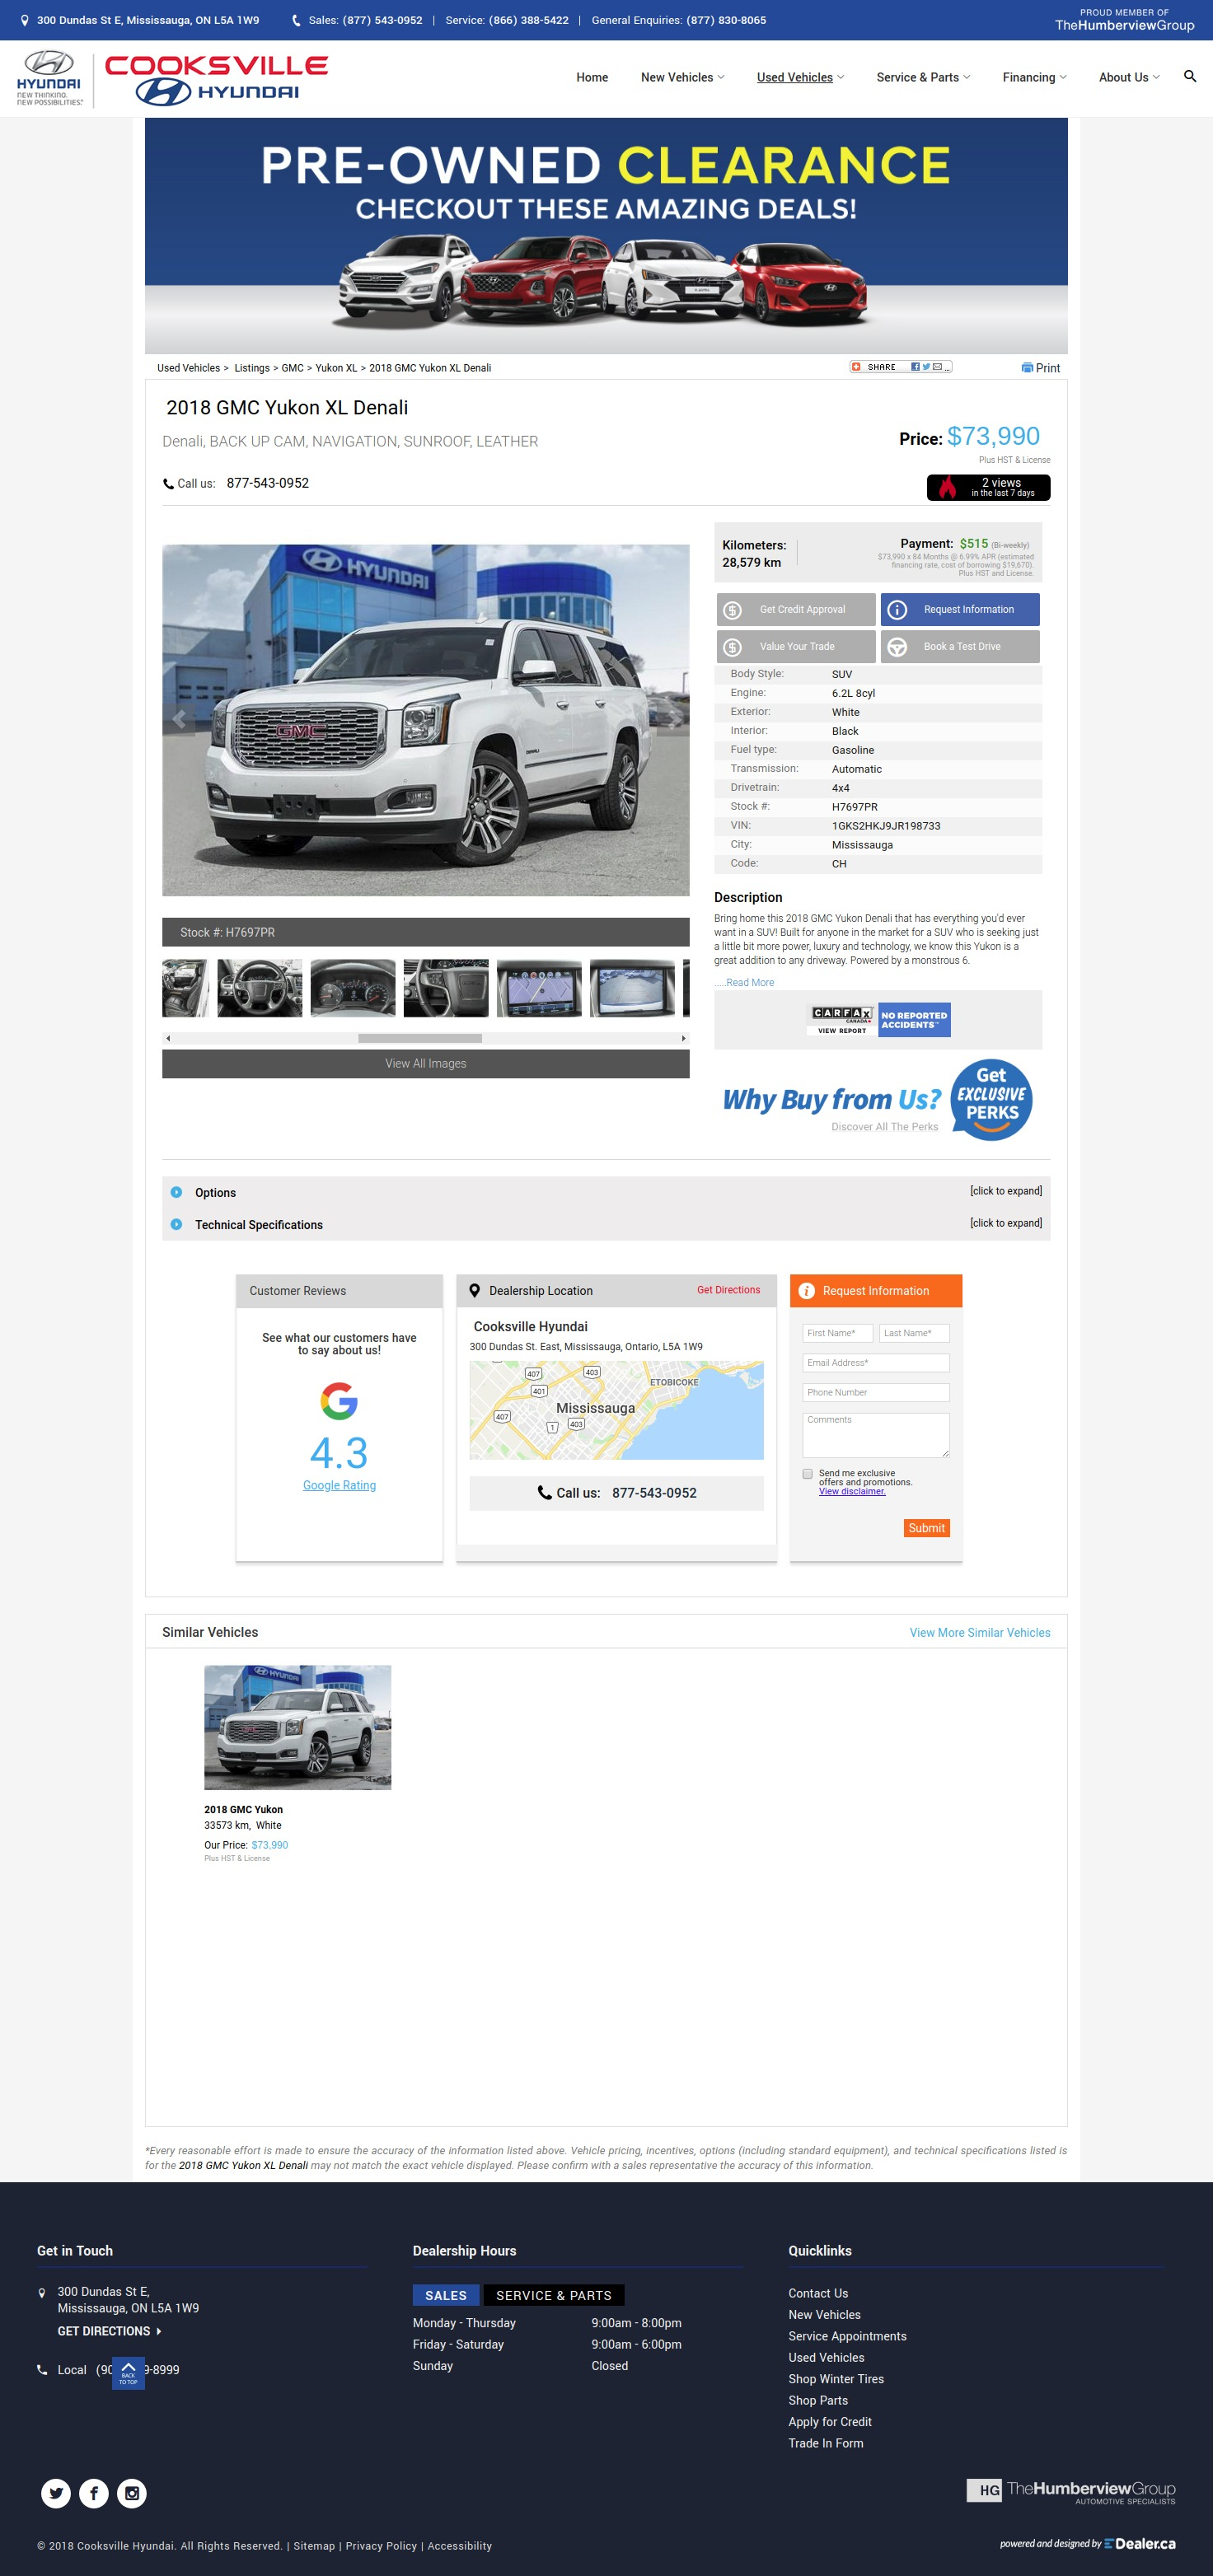car: (682, 1035, 687, 1042)
